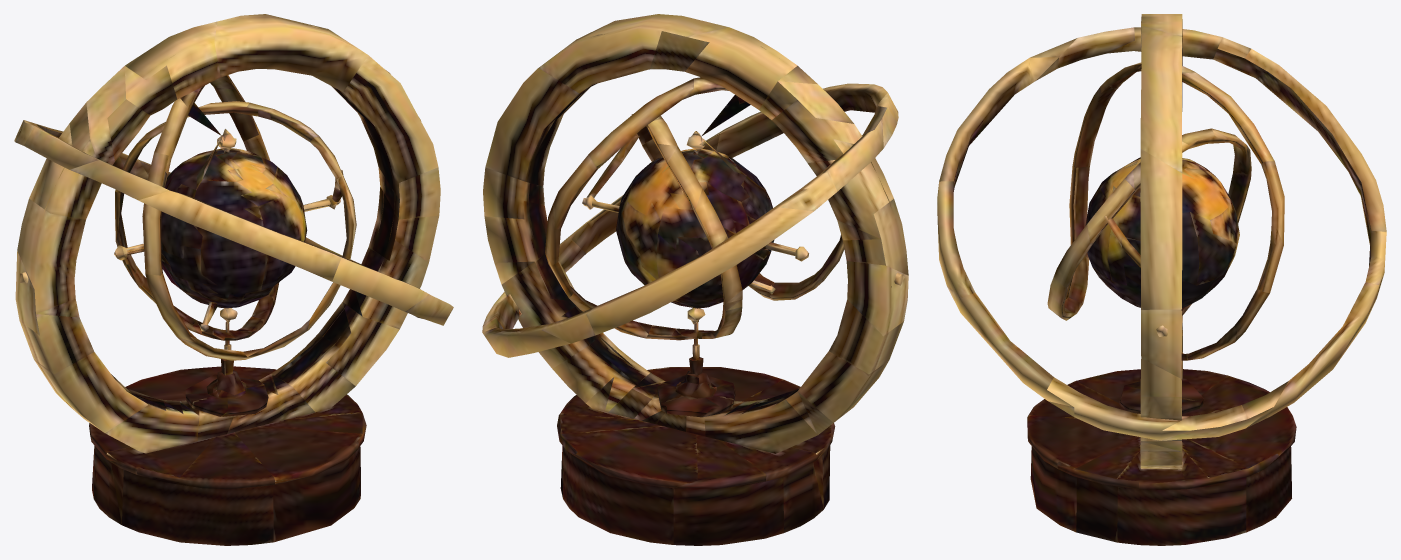
Rendered from armillary.lod1.glb.
3 renders of one model, left to right at view 1: azimuth 30°, elevation 25°; view 2: azimuth 150°, elevation 25°; view 3: azimuth 270°, elevation 25°, orthographic.
Size of the model in its own units: 0.8446 by 0.9 by 0.8101.
1 material, 1 textured.
